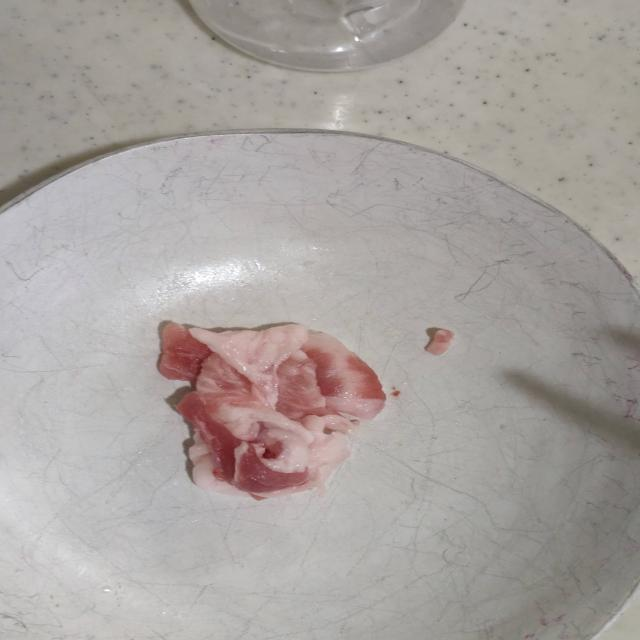NG raw pork,: (144, 316, 394, 513)
